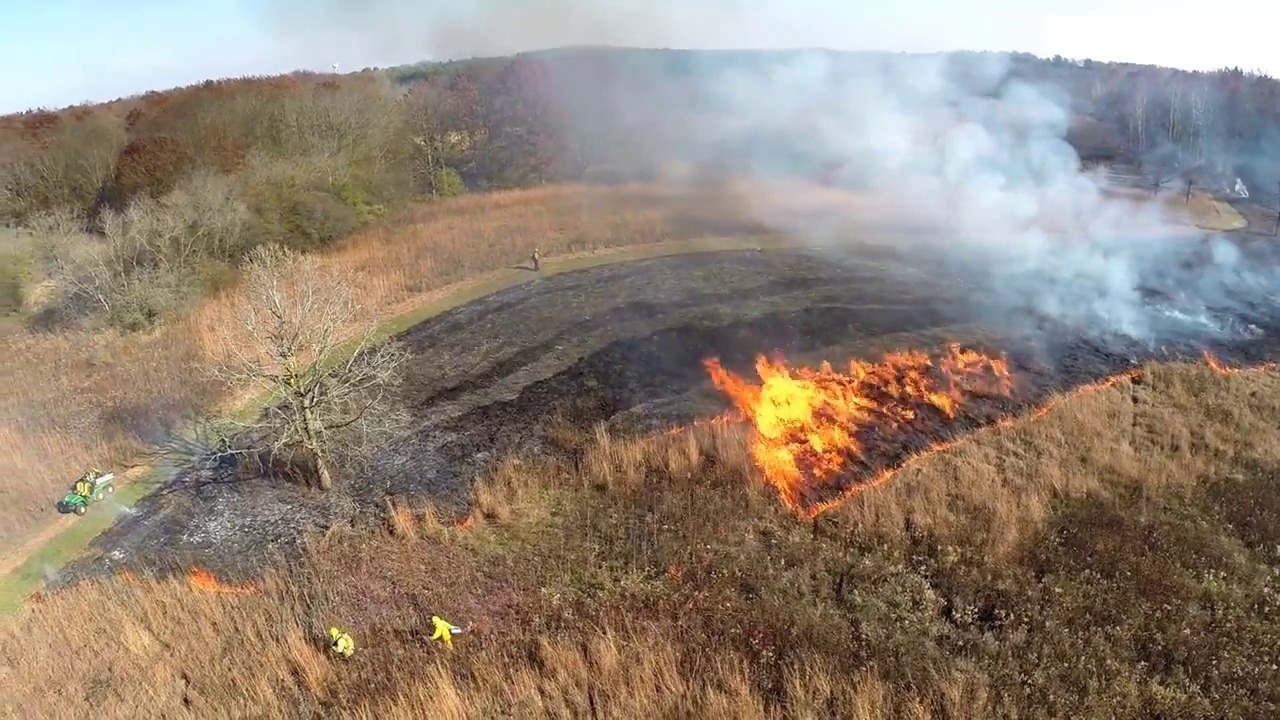forest_fire: (704, 343, 1013, 518), (975, 368, 1141, 431), (186, 567, 256, 594)
